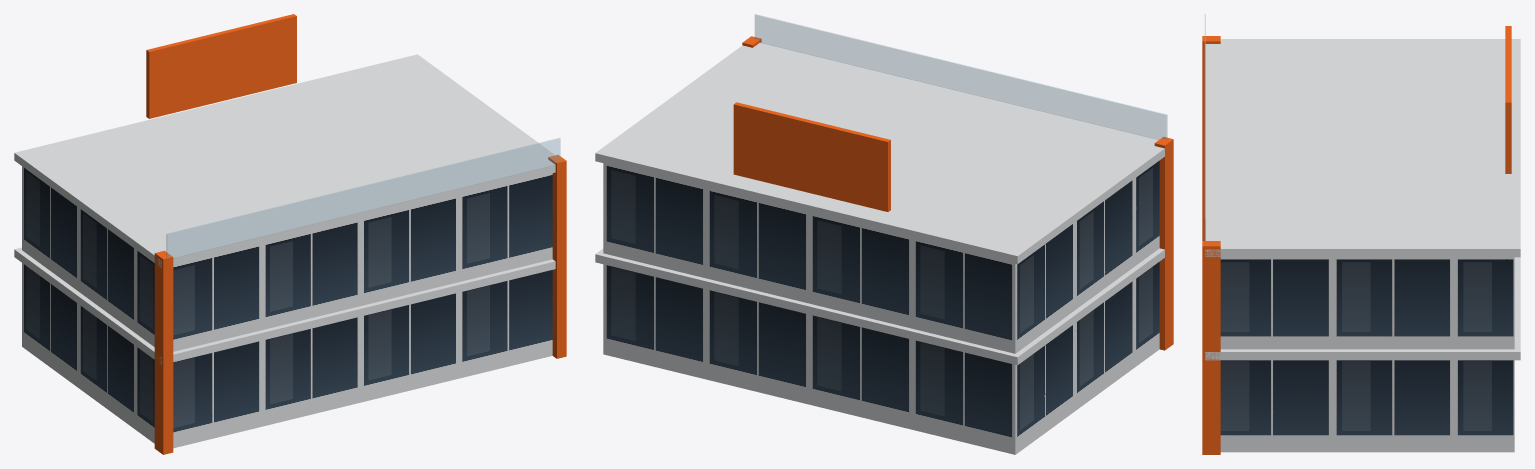
Rendered from hospitality_a.glb.
3 renders of one model, left to right at view 1: azimuth 30°, elevation 25°; view 2: azimuth 150°, elevation 25°; view 3: azimuth 270°, elevation 25°, orthographic. The views are drawn at different scales.
Visible parts, largest first — view 1: hospitality; view 2: hospitality; view 3: hospitality.
Boxes of the visible parts, <box> form: hospitality: <box>14,14,566,454</box>; hospitality: <box>595,14,1173,454</box>; hospitality: <box>1202,14,1520,454</box>.
Bounding box in the file's own units: 16.4 × 10.4 × 10.5.
Materials: 4 (1 with a texture image).
